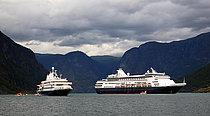Ship: (91, 65, 195, 98), (40, 66, 76, 99)
